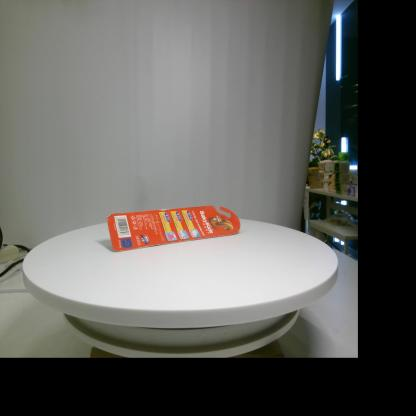Personal Hygiene: (107, 206, 240, 252)
